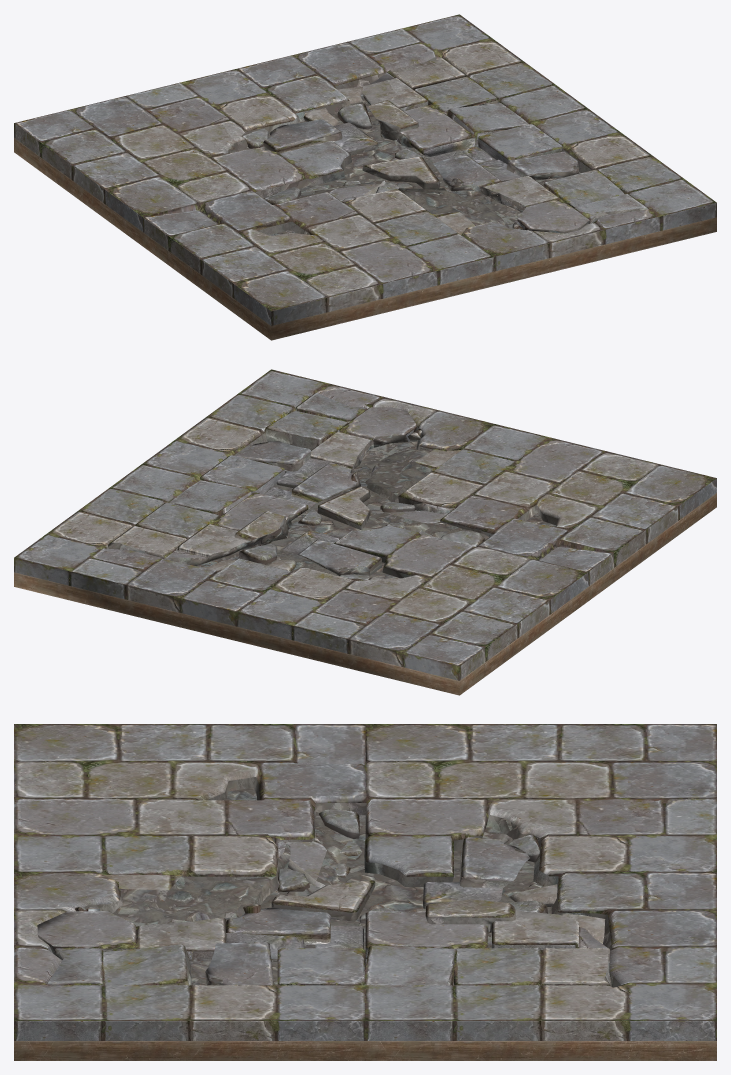
3 views of the same model, one above another, from view 1: azimuth 30°, elevation 25°; view 2: azimuth 150°, elevation 25°; view 3: azimuth 270°, elevation 25° (orthographic). The views are drawn at different scales.
Visible parts, largest first — view 1: SM_Greathall_Floor_8x8_Dmg_04_LOD0; view 2: SM_Greathall_Floor_8x8_Dmg_04_LOD0; view 3: SM_Greathall_Floor_8x8_Dmg_04_LOD0.
Boxes of the visible parts, box(x1,y1,x2,y2) form: SM_Greathall_Floor_8x8_Dmg_04_LOD0: box(14, 14, 716, 340); SM_Greathall_Floor_8x8_Dmg_04_LOD0: box(14, 369, 716, 695); SM_Greathall_Floor_8x8_Dmg_04_LOD0: box(14, 724, 716, 1060).
Bounding box in the file's own units: 8 × 0.6005 × 8.
Materials: 3 (3 with a texture image).
